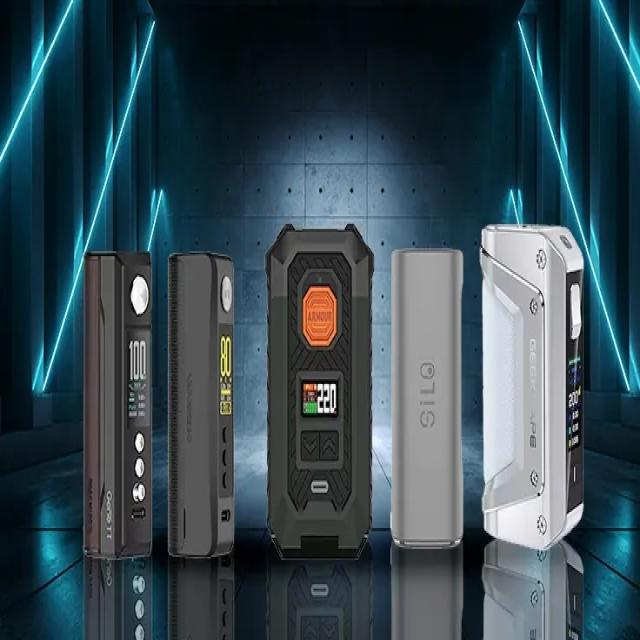Vape-images: (264, 220, 374, 562), (479, 221, 584, 552)
